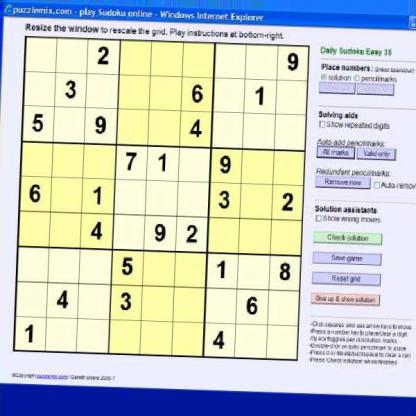sudoku: (9, 32, 312, 366)
